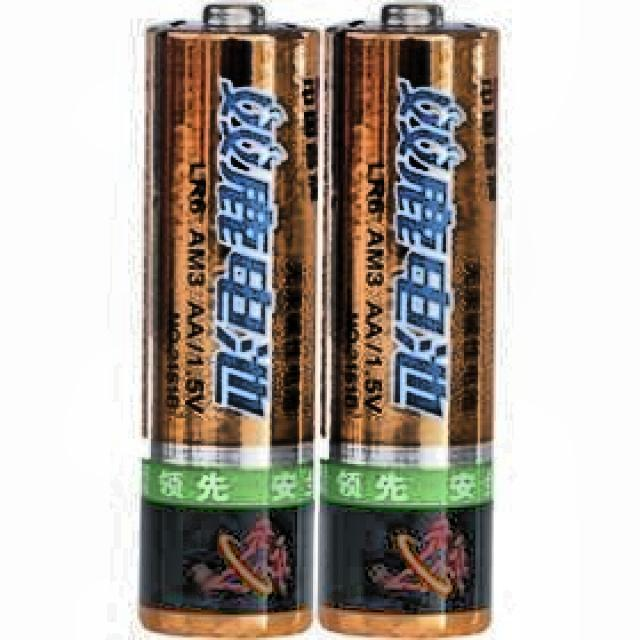battery: (140, 4, 319, 636), (320, 4, 499, 636)
